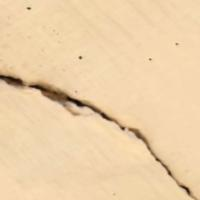crack: (0, 52, 199, 199)
